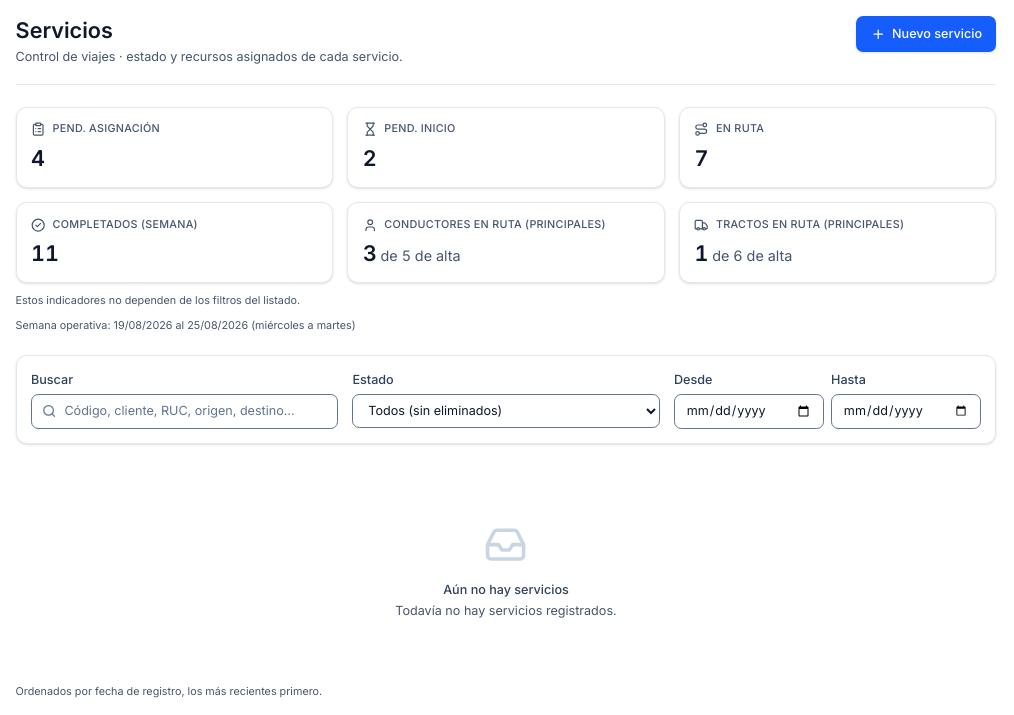
it: ServicesListPage › reconoce el rango desde como filtro activo en el estado vacío
Expected: the text "Todavía no hay servicios registrados." is shown, [395,602,617,620]
Type "2026-07-01" into the date field labelled "Desde". click: (749, 411)
box: [674,394,824,429]
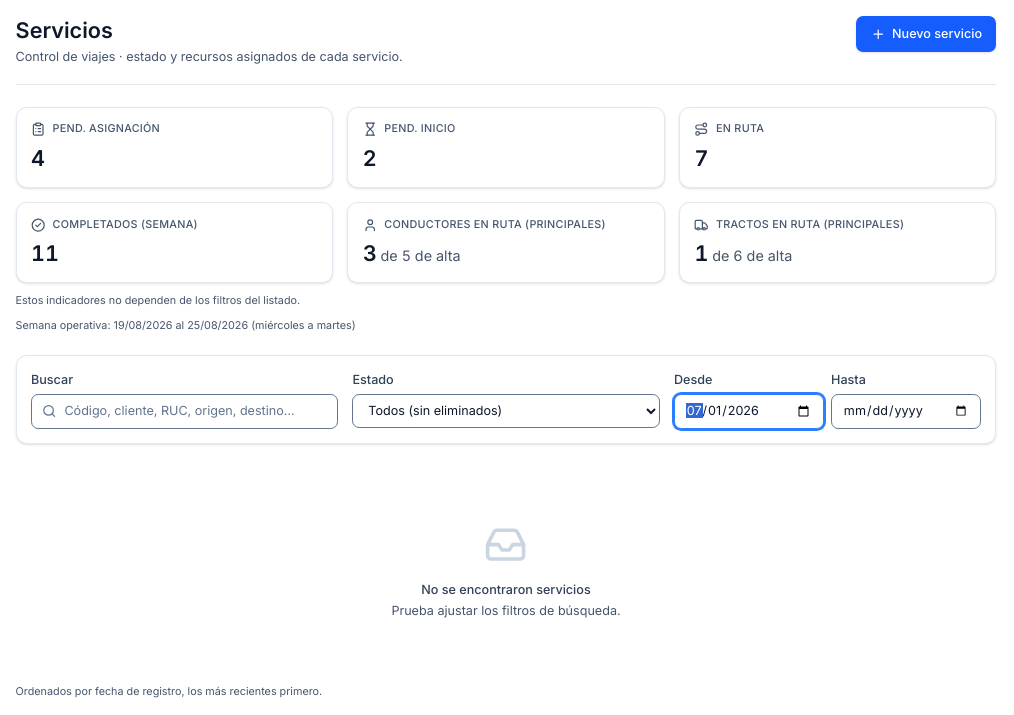
Result: the text "Prueba ajustar los filtros de búsqueda." is shown at [391,602,621,620]
